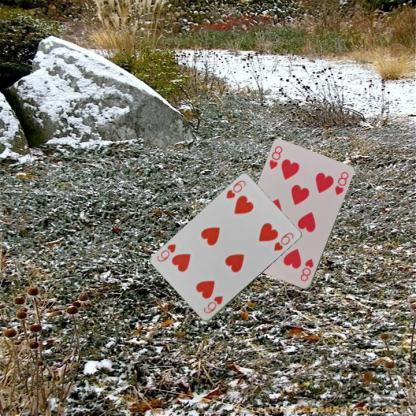6h: (224, 177, 247, 200), (200, 293, 224, 315)
8h: (266, 143, 284, 171), (297, 256, 315, 283)
